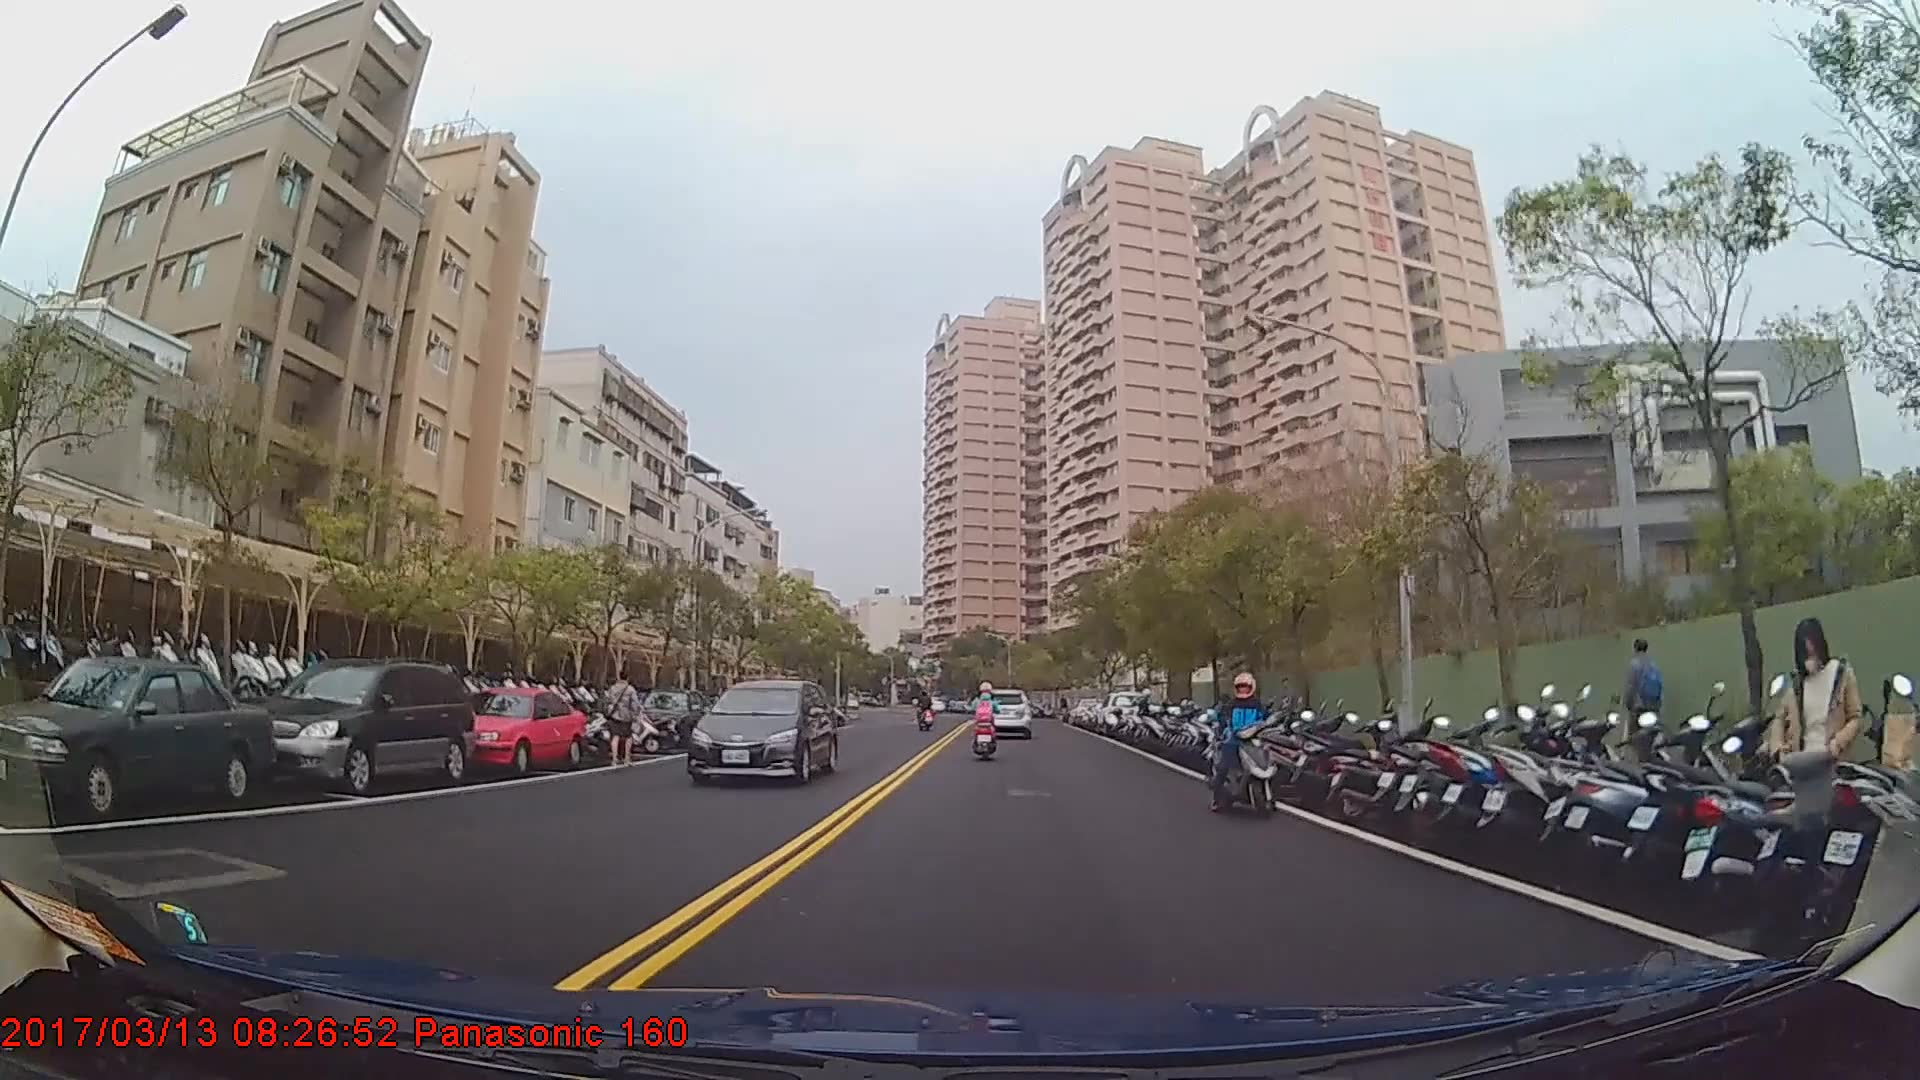pedestrian: (1765, 617, 1864, 920), (1615, 630, 1665, 789), (601, 671, 644, 768)
rider: (1209, 671, 1282, 818), (967, 680, 1000, 755), (915, 690, 935, 727)
vehicle: (0, 654, 273, 816), (234, 656, 475, 790), (684, 675, 835, 784), (452, 687, 585, 774), (633, 687, 711, 749), (1091, 689, 1151, 736), (978, 687, 1030, 738)
